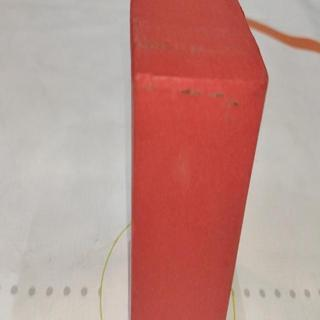redbox: (131, 0, 269, 320)
